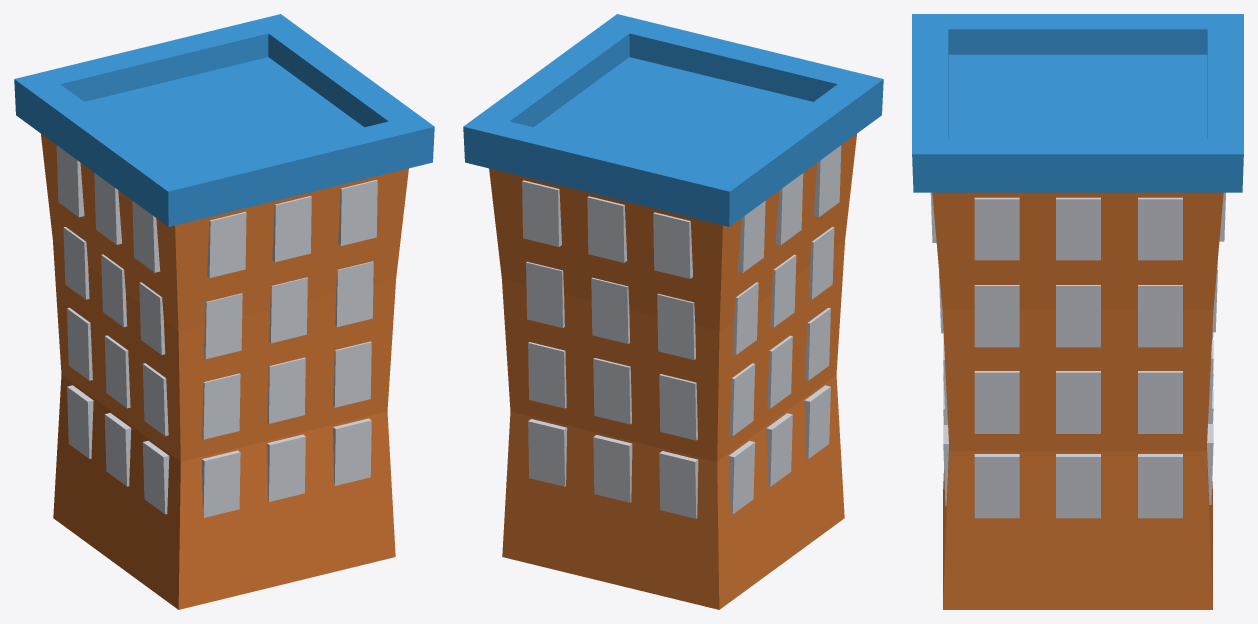
Rendered from building.fbx.
The picture shows the model from 3 angles, left to right: view 1: azimuth 30°, elevation 25°; view 2: azimuth 150°, elevation 25°; view 3: azimuth 270°, elevation 25°; orthographic projection. The views are drawn at different scales.
Parts seen in each view (by area): view 1: building, windows; view 2: building, windows; view 3: building, windows.
Boxes of the visible parts, <box> form: building: <box>14,14,434,609</box>; windows: <box>56,145,377,517</box>; building: <box>463,14,883,609</box>; windows: <box>522,145,841,518</box>; building: <box>912,14,1243,609</box>; windows: <box>930,192,1225,518</box>.
Bounding box in the file's own units: 386 × 602 × 386.
